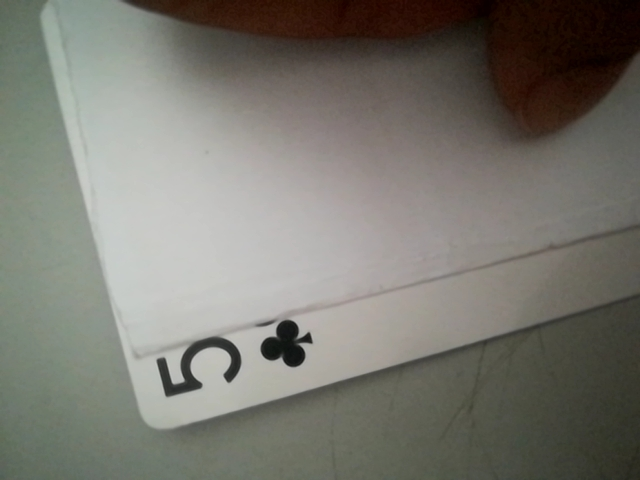mh 5: (145, 306, 323, 419)
